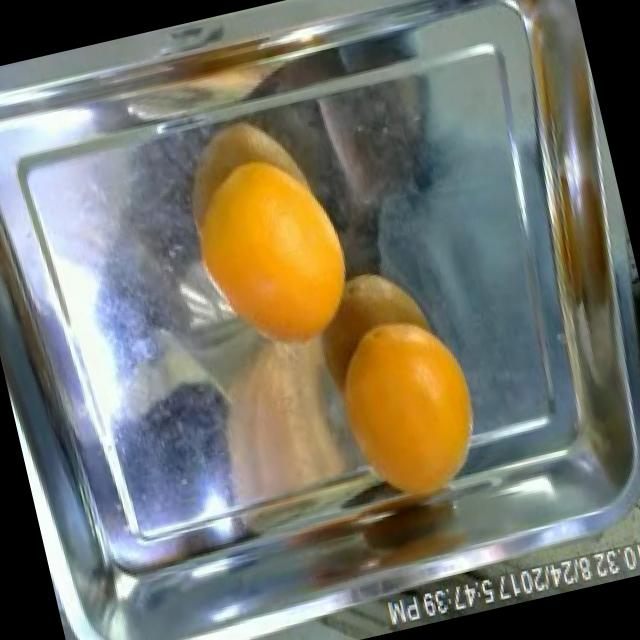Fruit: (170, 308, 387, 542), (310, 295, 506, 528)
